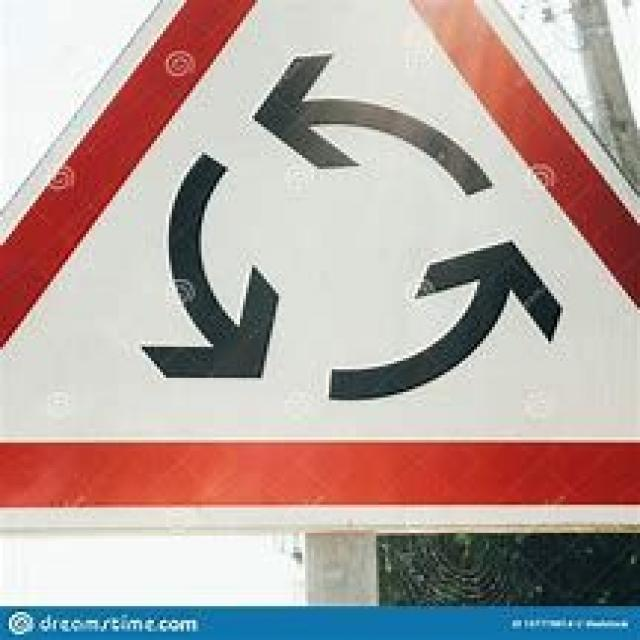ROUNDABOUT: (0, 0, 637, 530)
